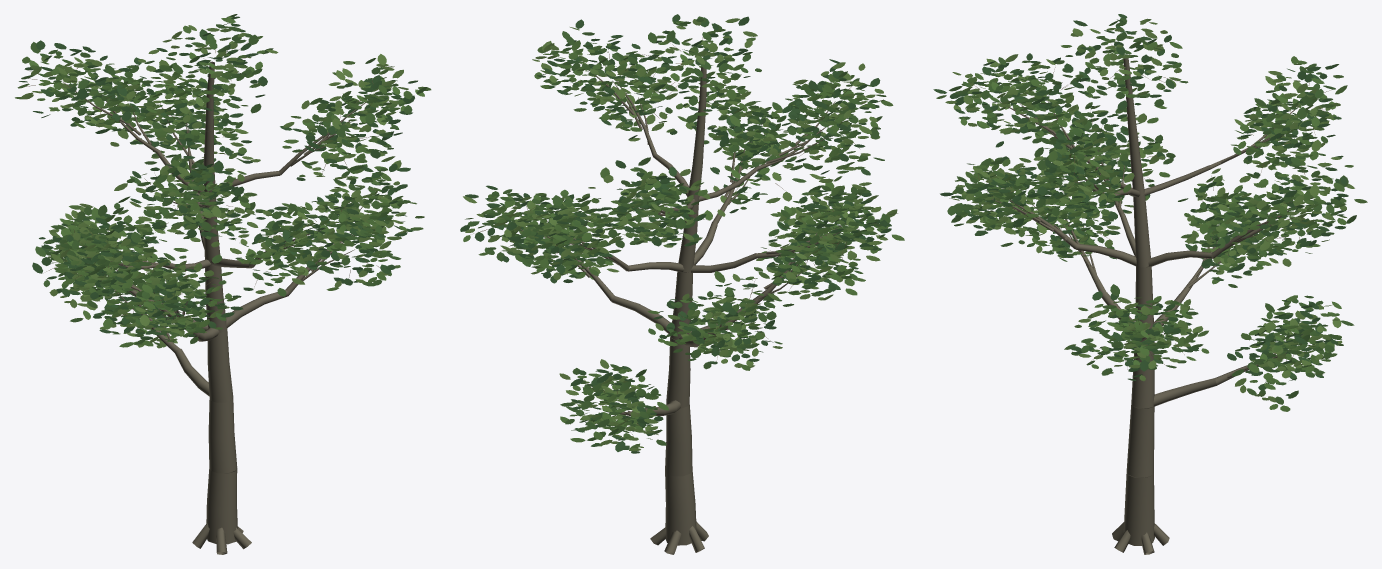
File: Chene_2_High.fbx
The picture shows the model from 3 angles, left to right: view 1: azimuth 30°, elevation 25°; view 2: azimuth 150°, elevation 25°; view 3: azimuth 270°, elevation 25°; orthographic projection. The views are drawn at different scales.
Parts seen in each view (by area): view 1: Chene_2_High; view 2: Chene_2_High; view 3: Chene_2_High.
Part boxes in pixels (bbox=[...]): Chene_2_High: bbox=[15, 14, 431, 554]; Chene_2_High: bbox=[460, 14, 904, 554]; Chene_2_High: bbox=[933, 14, 1367, 554].
Size of the model in its own units: 675 by 861 by 653.
